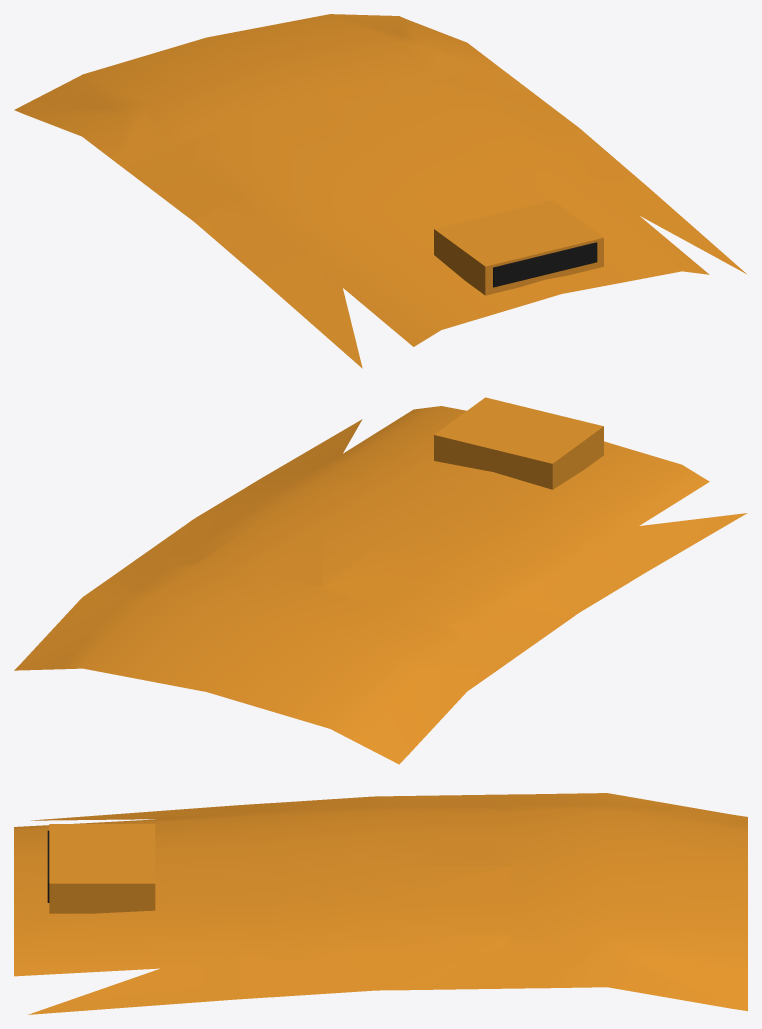
Rendered from protoHatch_roof_hayate.glb.
The picture shows the model from 3 angles, top to bottom: view 1: azimuth 30°, elevation 25°; view 2: azimuth 150°, elevation 25°; view 3: azimuth 270°, elevation 25°; orthographic projection. The views are drawn at different scales.
Parts seen in each view (by area): view 1: roof_hayate; view 2: roof_hayate; view 3: roof_hayate.
Boxes of the visible parts, x1=… form: roof_hayate: x1=14, y1=14, x2=746, y2=368; roof_hayate: x1=14, y1=397, x2=747, y2=764; roof_hayate: x1=14, y1=793, x2=747, y2=1014.
Bounding box in the file's own units: 1.04 × 0.1598 × 1.66.
